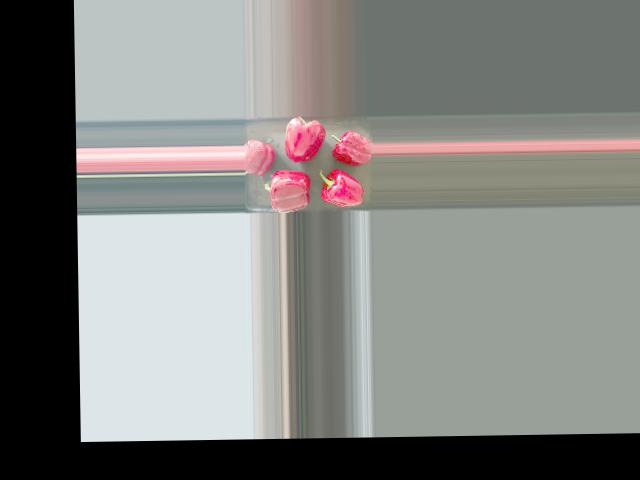bell_pepper: (244, 132, 276, 177)
